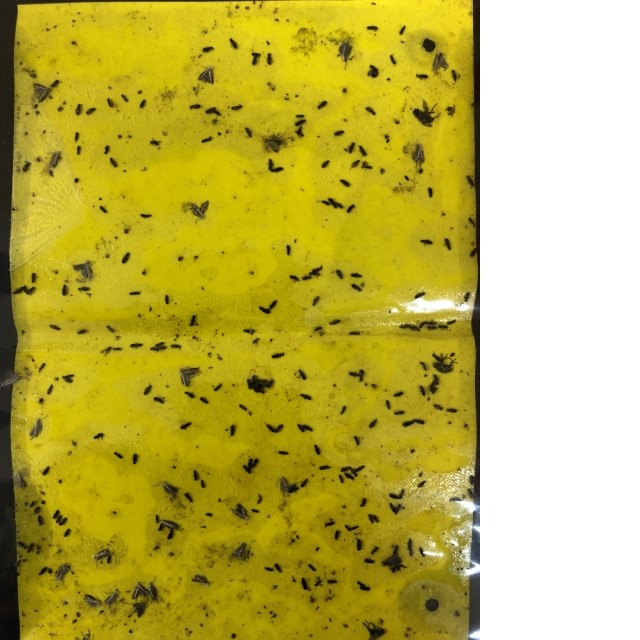DBM: (182, 198, 210, 226), (333, 39, 356, 71), (150, 479, 182, 502), (177, 364, 203, 389), (28, 415, 51, 443), (71, 260, 99, 282), (408, 140, 428, 169), (91, 546, 115, 569), (31, 81, 53, 106), (52, 562, 75, 585), (429, 52, 451, 76), (231, 539, 252, 563), (102, 585, 121, 611), (196, 64, 218, 86), (228, 501, 250, 522), (45, 148, 65, 169), (129, 580, 150, 600), (81, 591, 102, 610), (1, 374, 25, 390), (277, 473, 293, 496), (12, 469, 29, 490), (190, 572, 213, 587), (160, 517, 182, 532), (148, 580, 161, 602)
